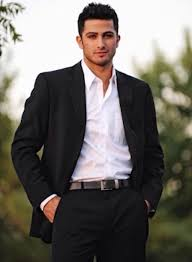middle_eastern_male: (84, 15, 118, 69)
